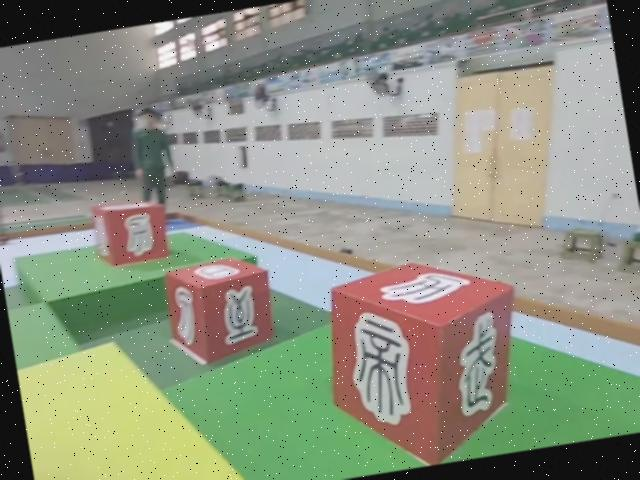R2 Fake: (312, 244, 538, 479), (163, 254, 281, 374), (89, 196, 172, 272)
